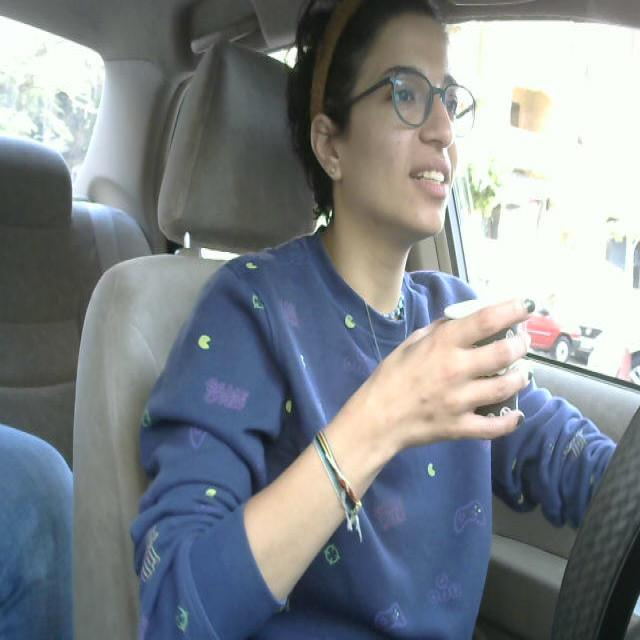drinking: (440, 286, 538, 462)
